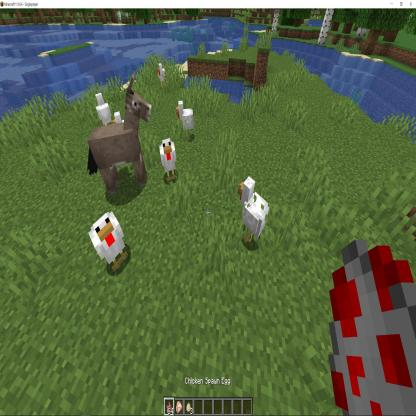minecraft-pigs: (174, 130, 231, 260)
